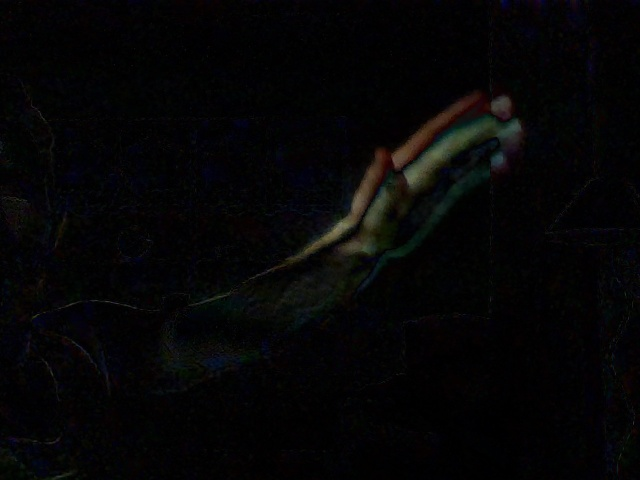hand_pa: (341, 79, 539, 274)
